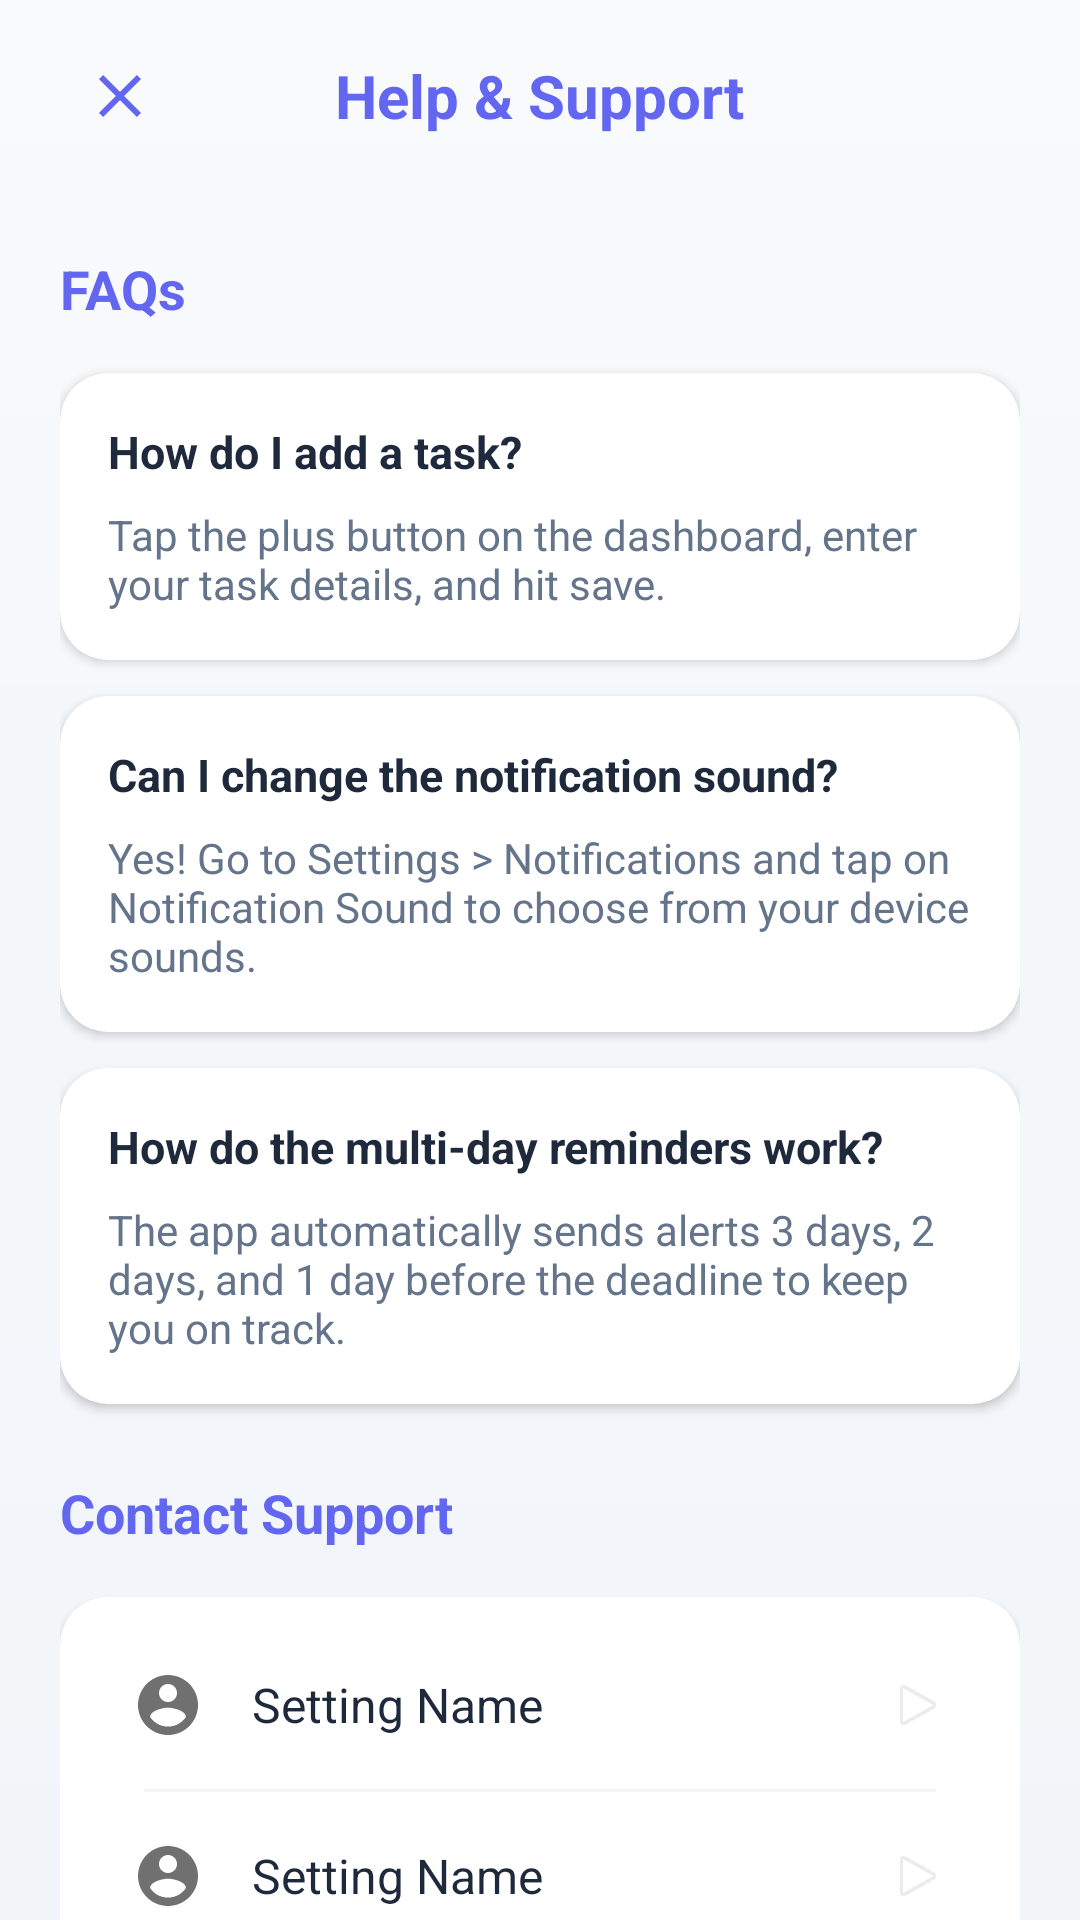

Icons on this 1080px x 1920px Android screen, each with its box as (x1, y1, x2, y2):
account: (138, 1675, 198, 1735), (138, 1846, 198, 1906)
close: (99, 75, 141, 117)
